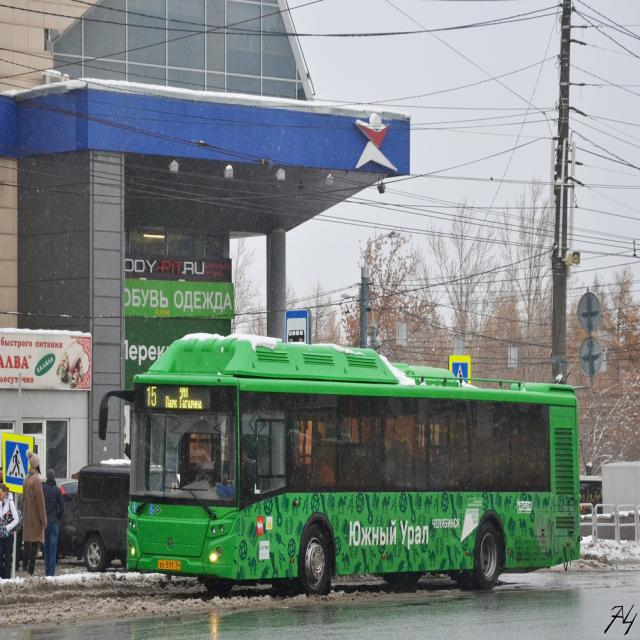number-of-bus: (148, 387, 159, 409)
